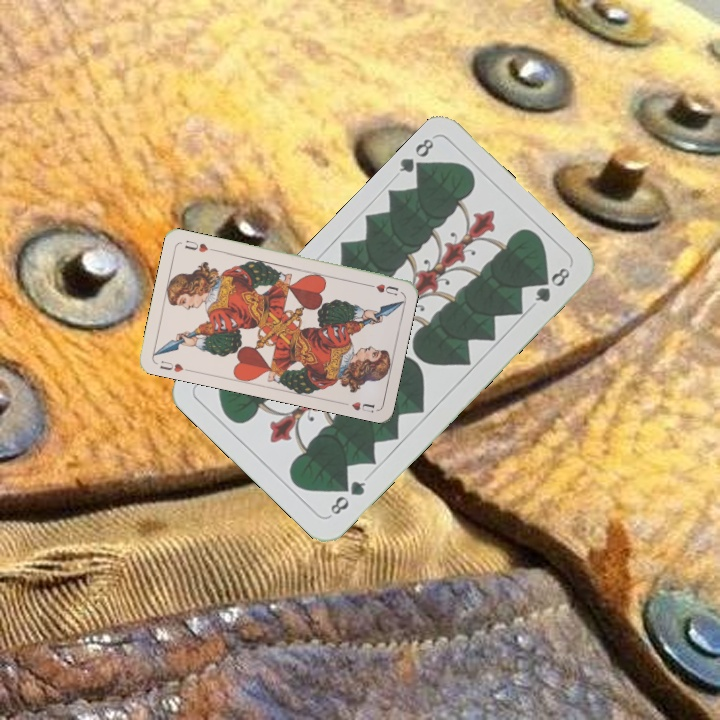G8: (394, 134, 437, 179), (326, 476, 369, 518)
HU: (362, 279, 401, 298), (156, 356, 186, 375)
